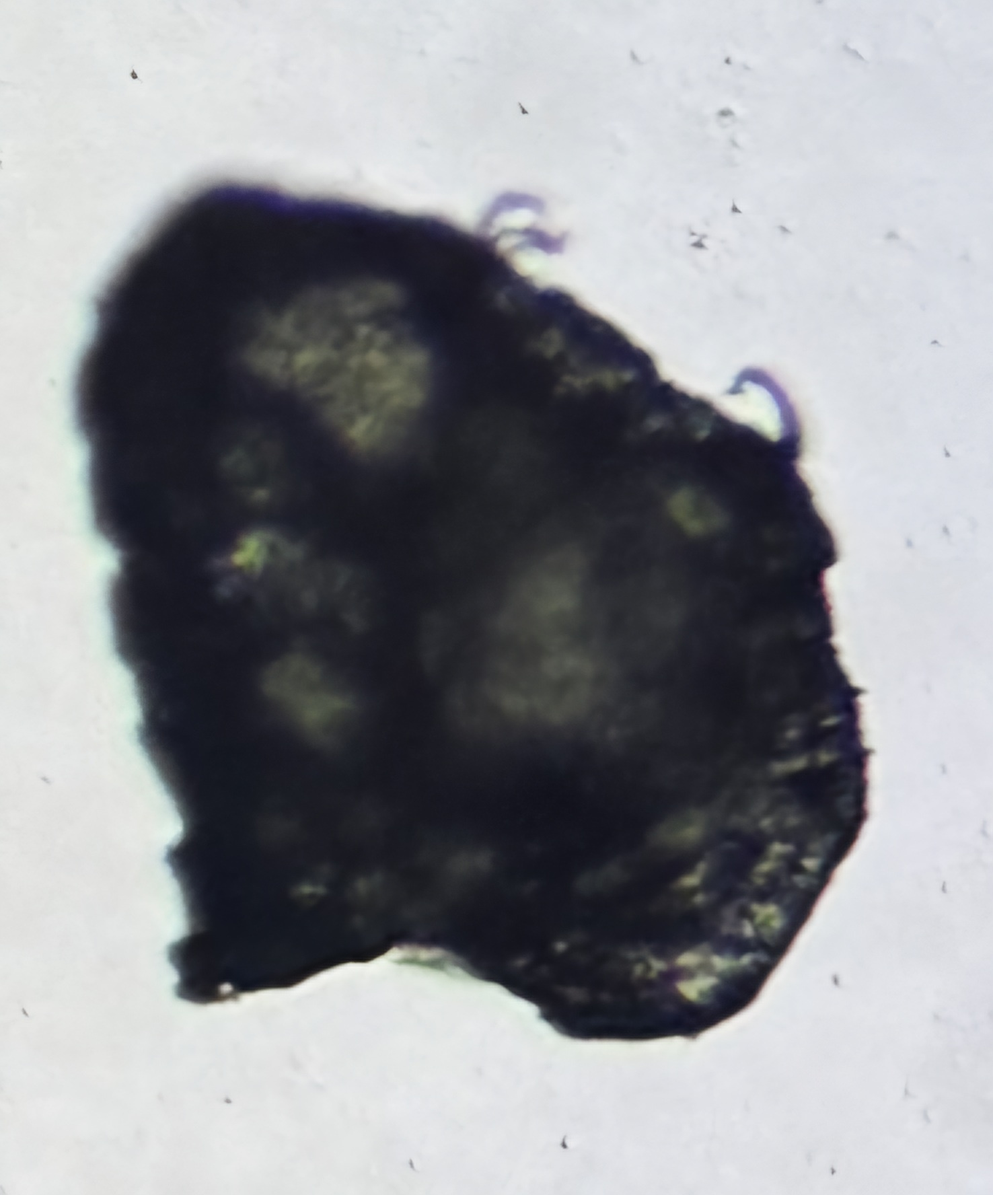microplastic: (74, 181, 877, 1045)
